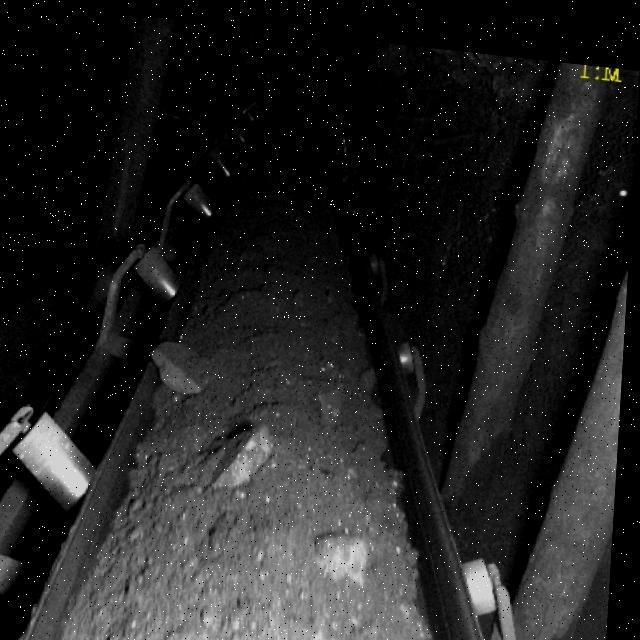large_sized_coal: (204, 419, 282, 492), (311, 518, 379, 584), (154, 335, 222, 398)
